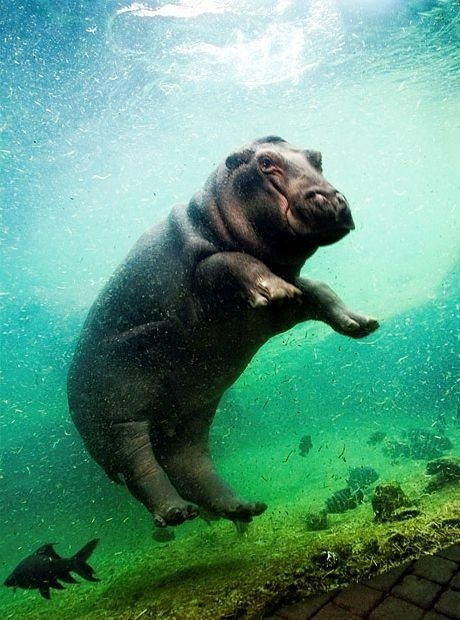hipopotamo: (56, 84, 406, 538)
